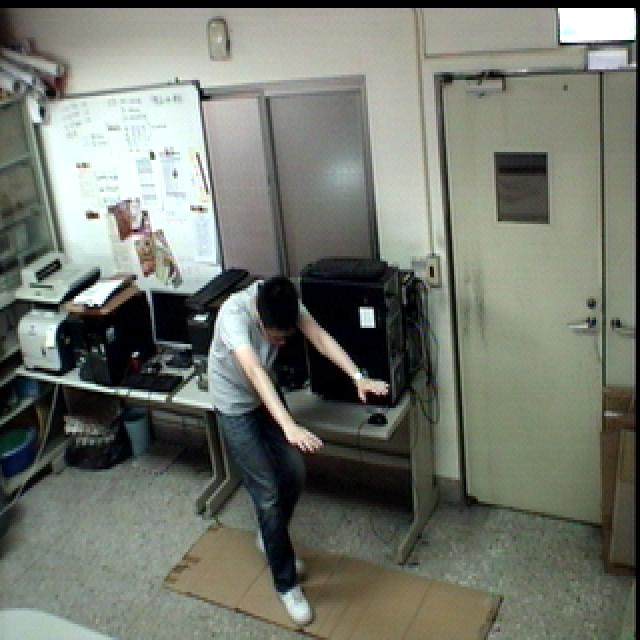bend: (200, 269, 391, 634)
